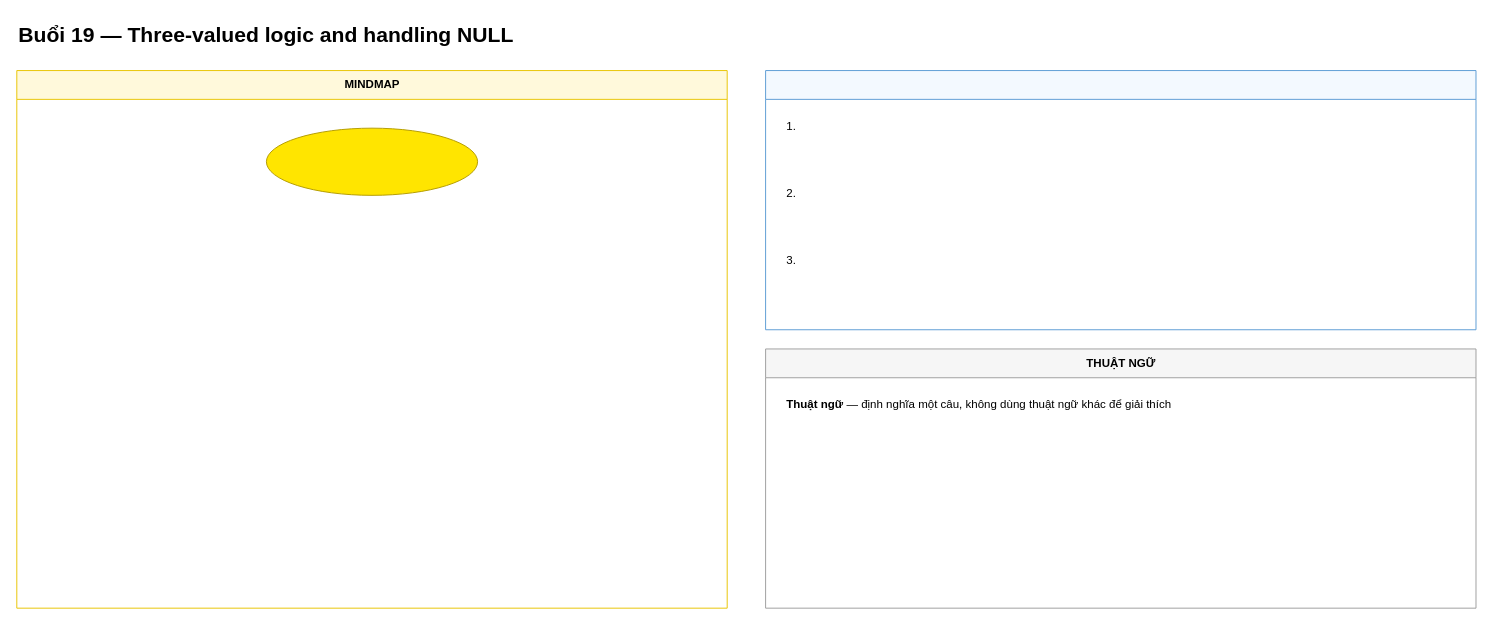
The diagram is 1493 pixels wide and 625 high, and some of its shapes have lost their labels. Here are the shapes that lost their labels. From the top down, the box of each, then its label:
(265, 127, 478, 195): Three-valued logic and handling NULL
(765, 70, 1476, 330): KEY TAKEAWAY — ba điều phải nhớ
